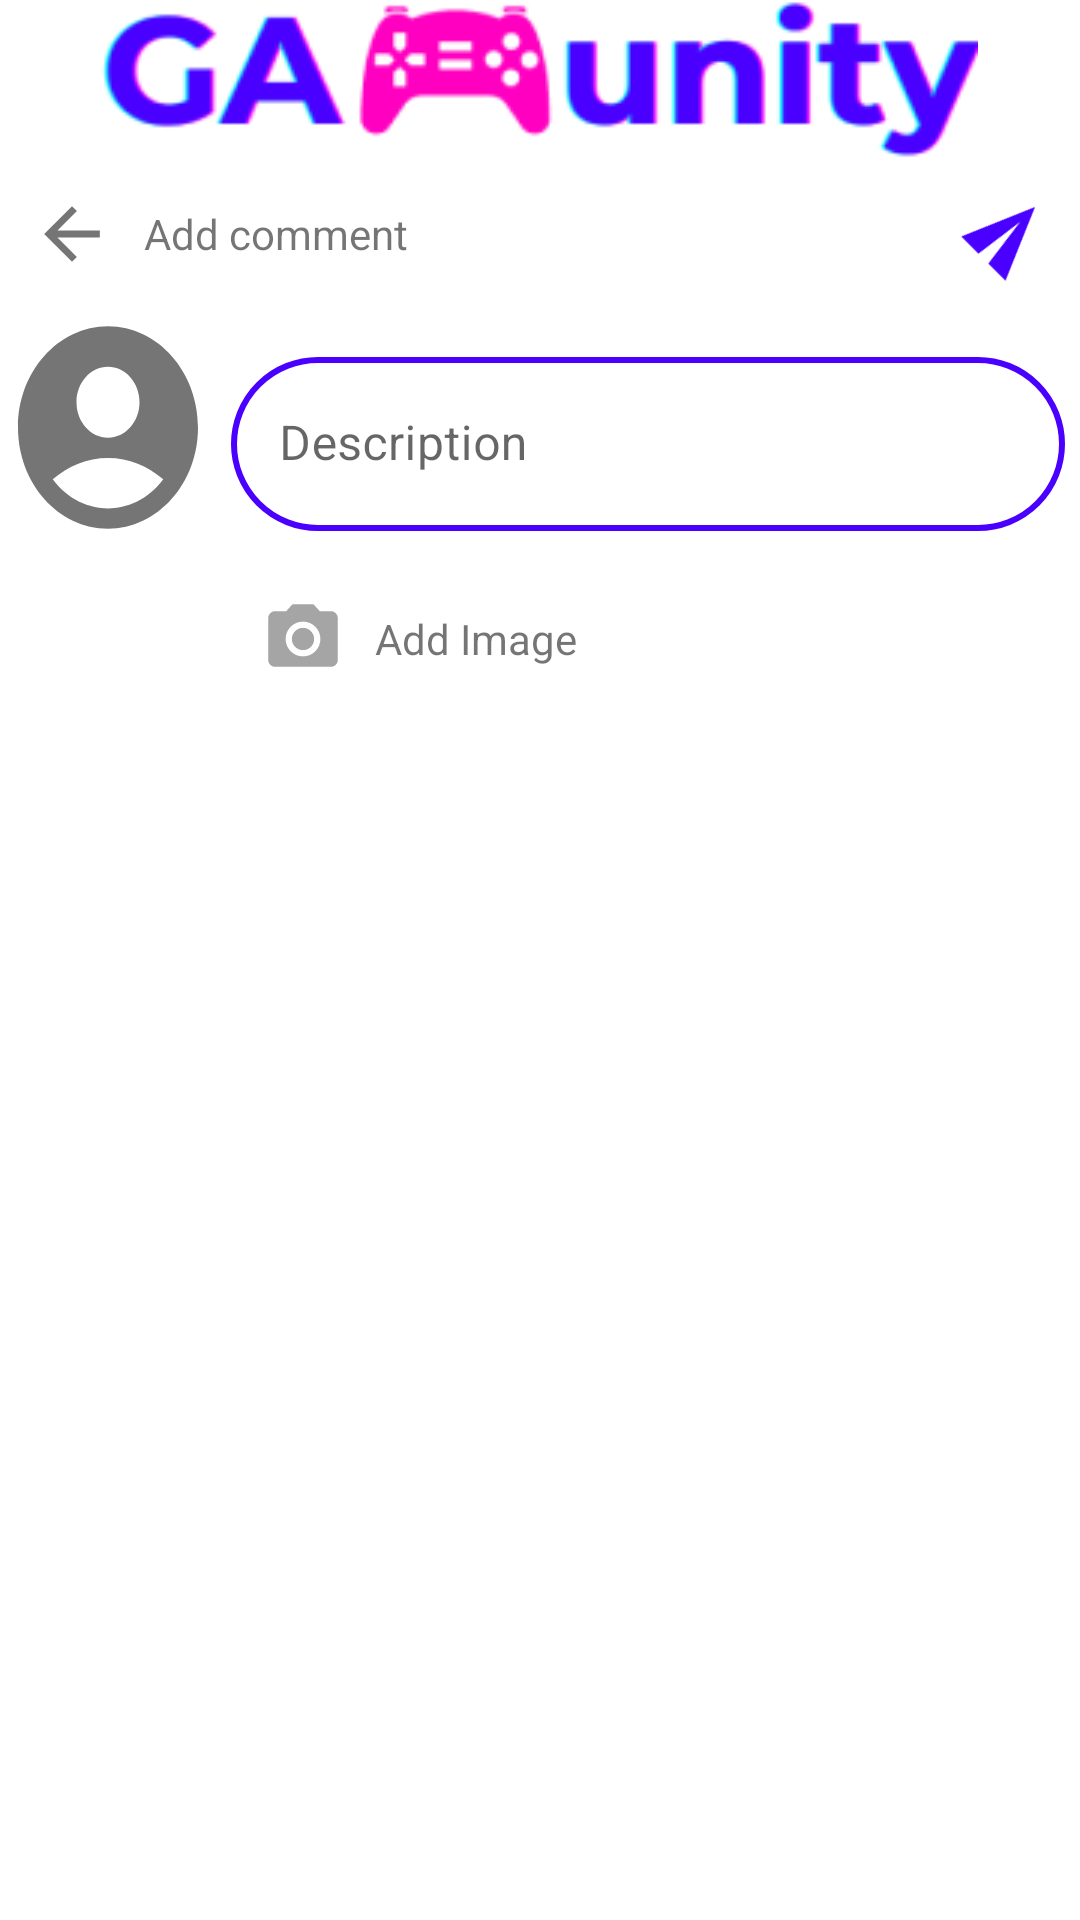

Where to tap for icons on this 1080px x 1920px app screen, as (x,y):
account base: (108,427)
